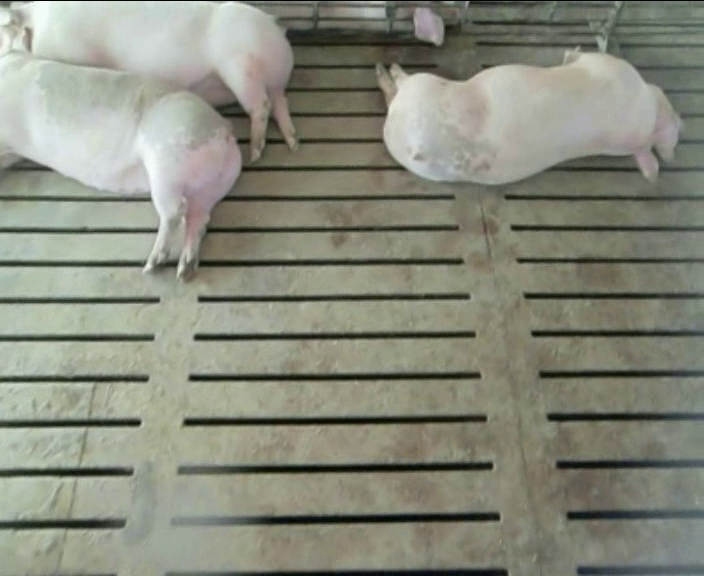pig: (0, 26, 240, 278), (376, 51, 681, 184)
